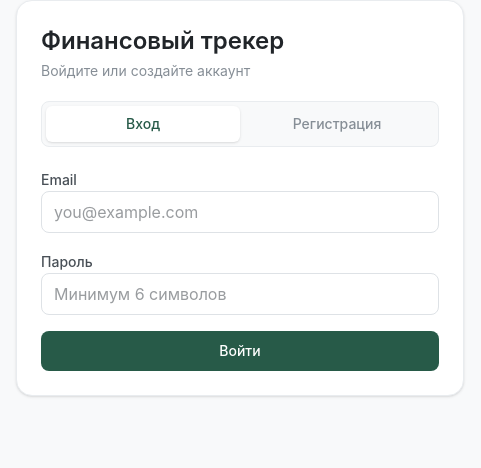
Test: LoginForm › показывает ошибку входа при неверном пароле
The image size is (481, 468).
Type "user@example.com" into the field labelled "Email" at point(240, 212), box [41, 191, 439, 233]
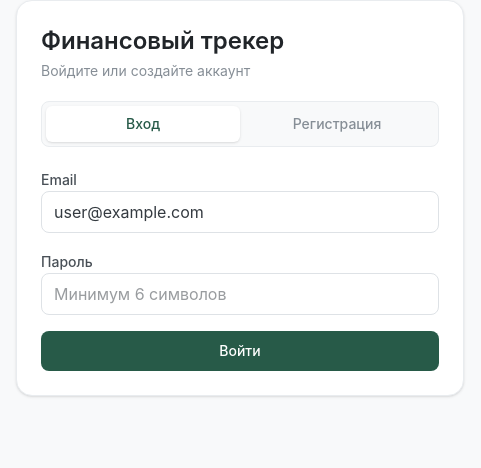
Type "wrongpass" into the password field labelled "Пароль" at point(240, 294), box [41, 273, 439, 315]
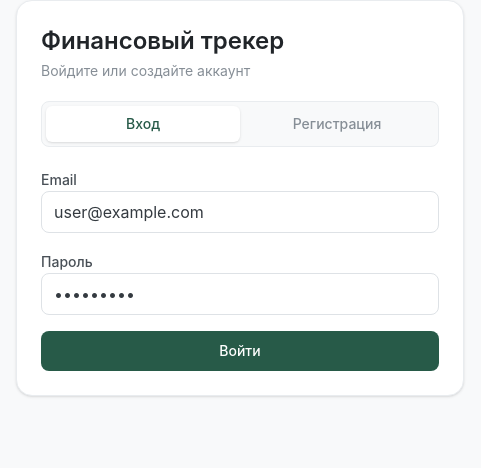
Click the button "Войти" at point(240, 351), box [41, 331, 439, 371]
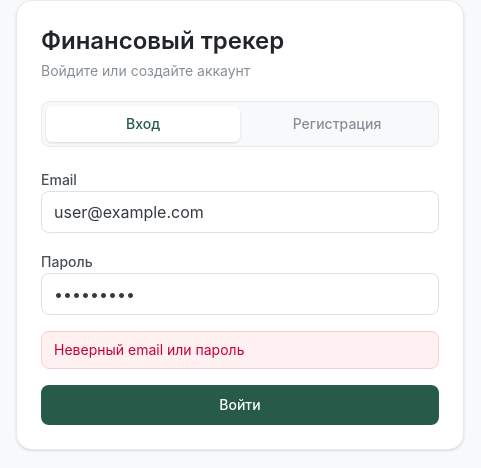
Check: the message reads "Неверный email или пароль", box [54, 341, 244, 358]
